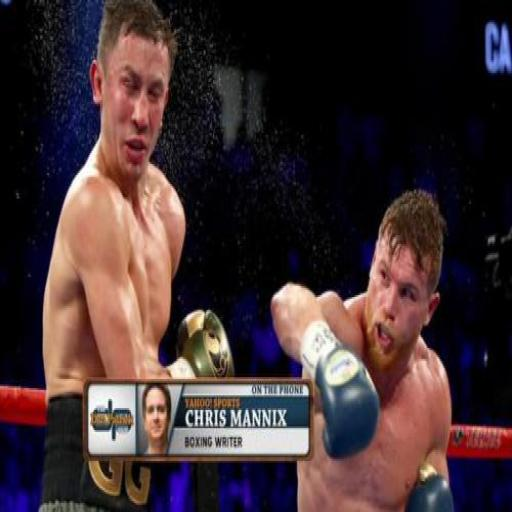boxing: (61, 0, 512, 512)
